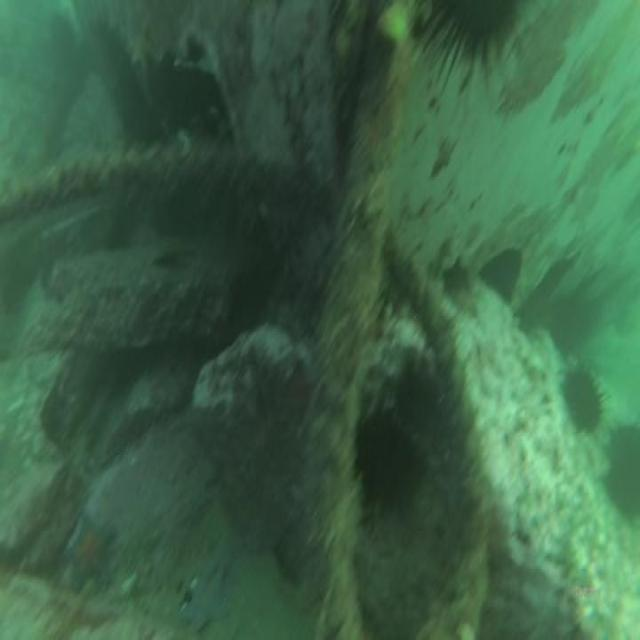echinus: (354, 409, 426, 523), (562, 357, 604, 446)
starfish: (59, 502, 117, 598)
